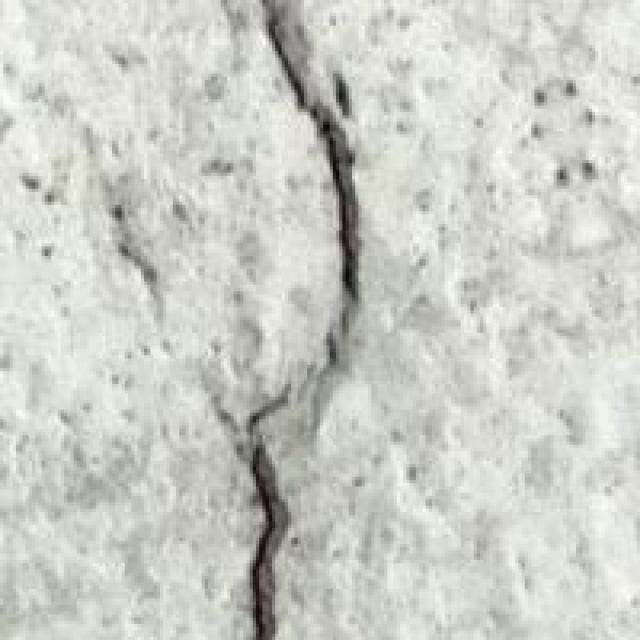Crack: (198, 3, 388, 637)
